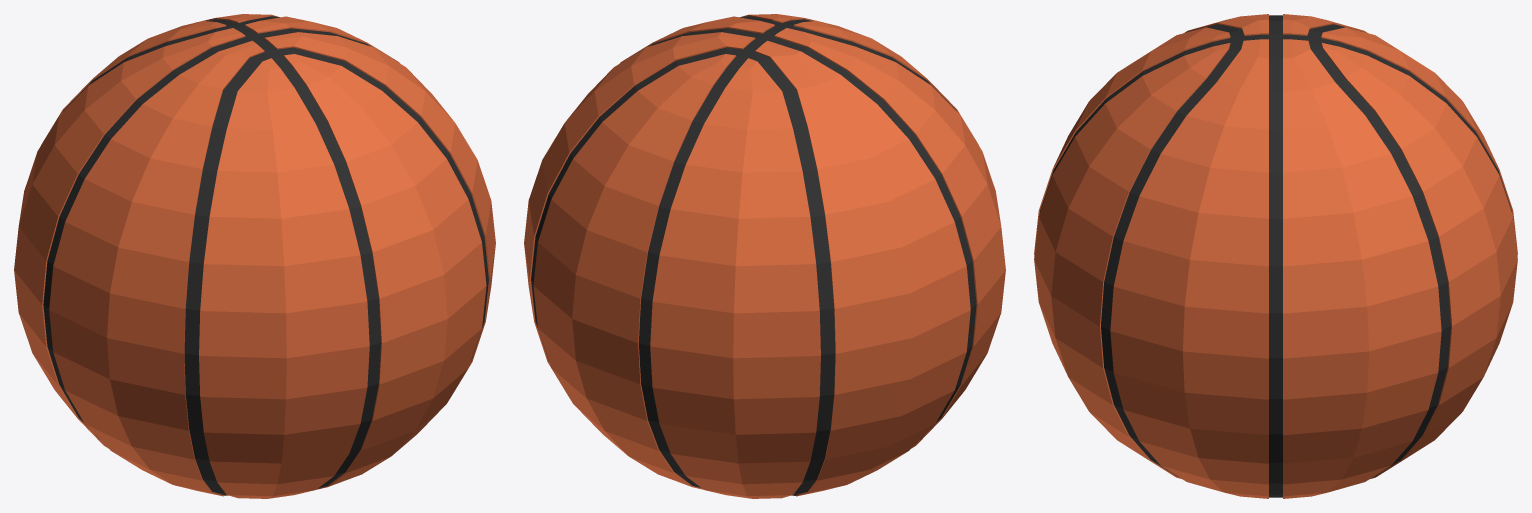
The model's file is low_poly_cartoon_basketball_ball_free.glb.
The picture shows the model from 3 angles, left to right: view 1: azimuth 30°, elevation 25°; view 2: azimuth 150°, elevation 25°; view 3: azimuth 270°, elevation 25°; orthographic projection.
Parts seen in each view (by area): view 1: BasketballBall; view 2: BasketballBall; view 3: BasketballBall.
Boxes of the visible parts, bbox=[...] form: BasketballBall: bbox=[14, 14, 495, 498]; BasketballBall: bbox=[524, 14, 1005, 498]; BasketballBall: bbox=[1034, 14, 1517, 498].
Bounding box in the file's own units: 74.99 × 75.27 × 74.99.
